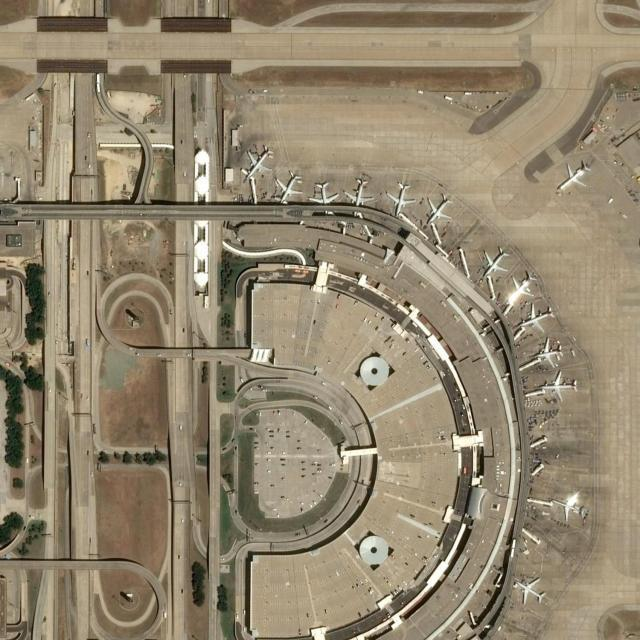Aircraft: (550, 488, 590, 520), (541, 369, 579, 400), (520, 301, 556, 332), (556, 161, 590, 193), (241, 146, 273, 180), (275, 170, 304, 206), (344, 177, 375, 210), (479, 244, 509, 278), (307, 177, 339, 207), (531, 337, 561, 368), (507, 272, 537, 303), (424, 193, 452, 225), (387, 181, 413, 215), (516, 575, 546, 604)
